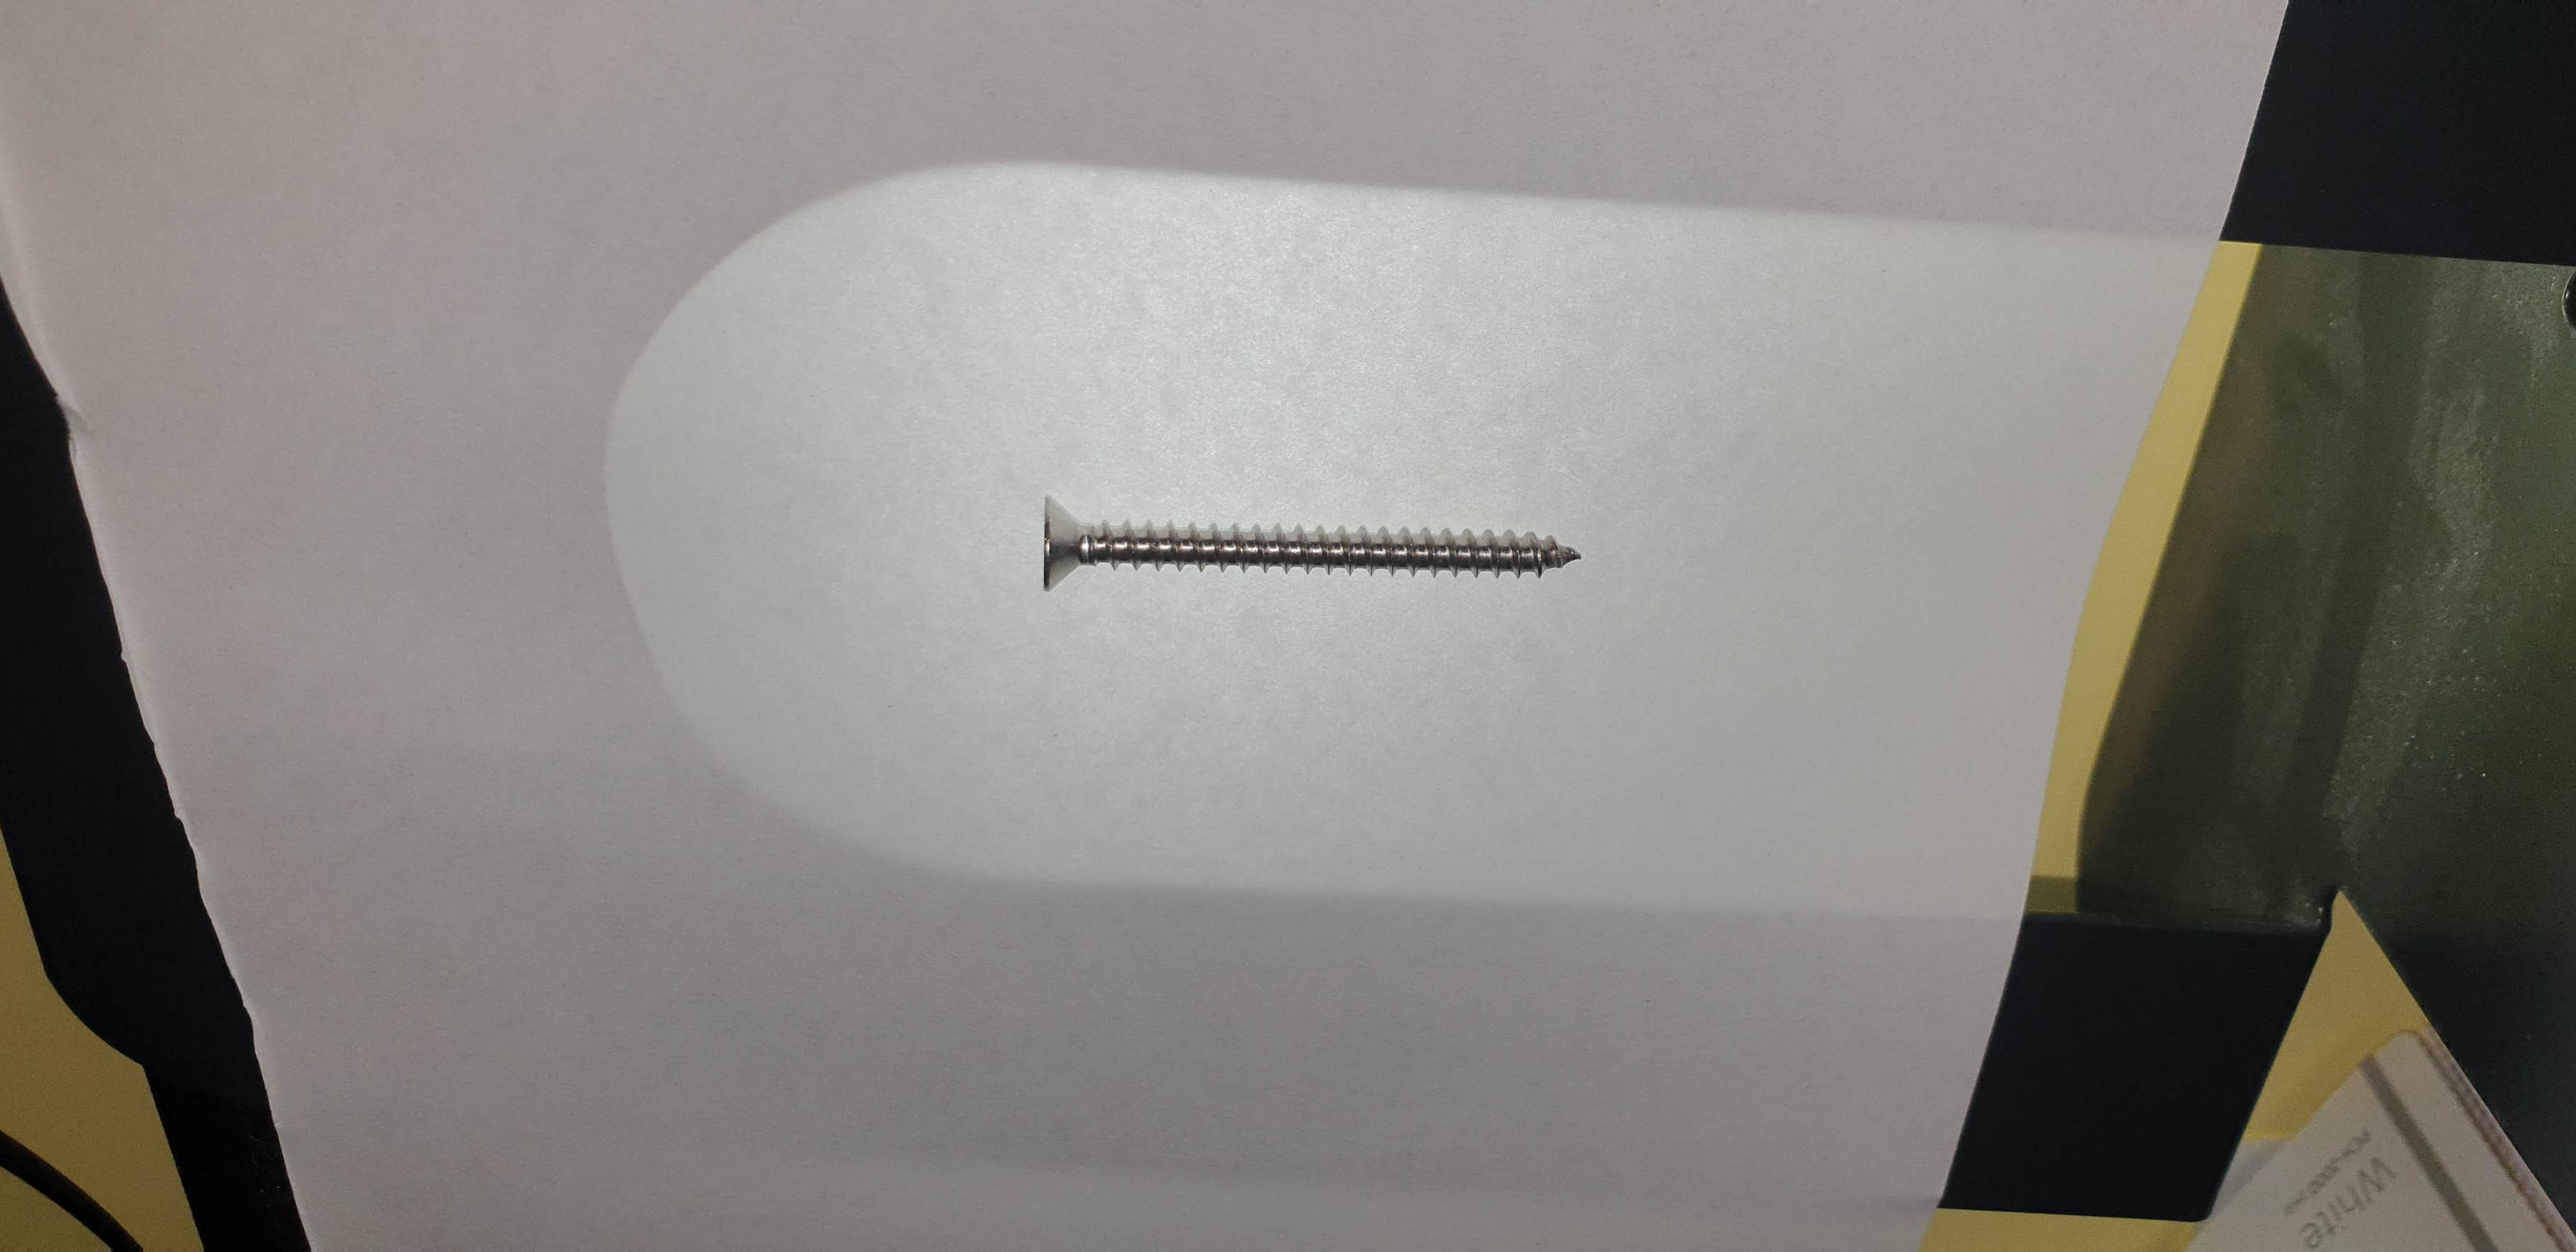fastener: (982, 445, 1676, 633)
